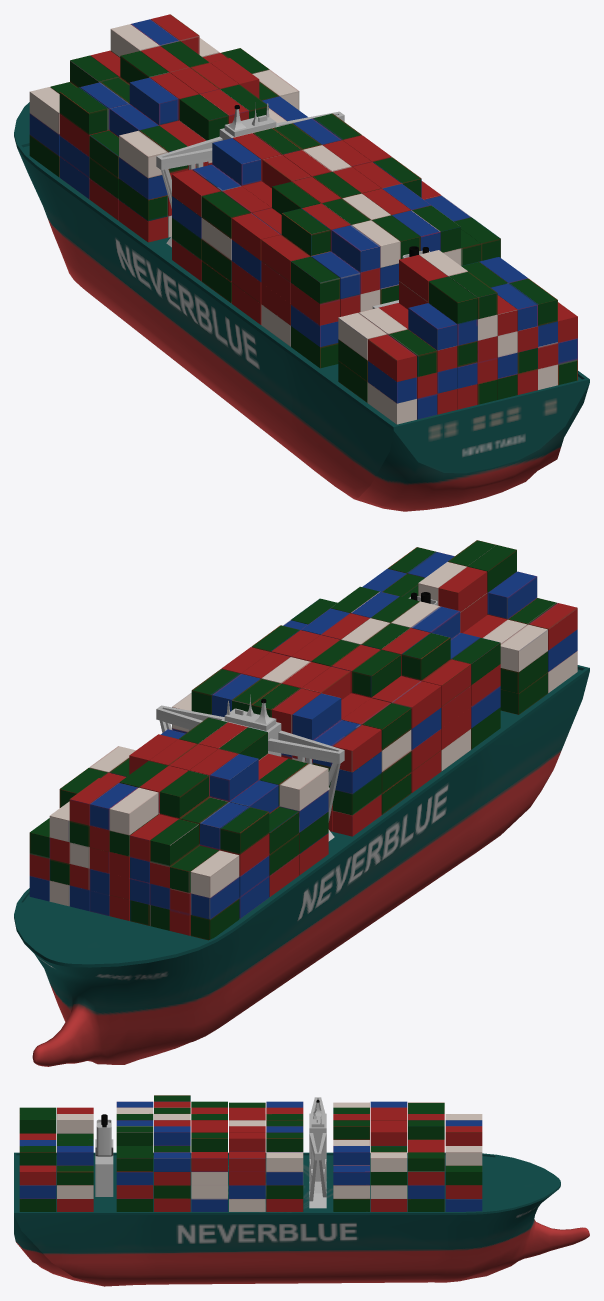
The model's file is target_ship.fbx.
3 views of the same model, one above another, from view 1: azimuth 30°, elevation 25°; view 2: azimuth 150°, elevation 25°; view 3: azimuth 270°, elevation 25° (orthographic). The views are drawn at different scales.
Parts seen in each view (by area): view 1: Target; view 2: Target; view 3: Target.
Boxes of the visible parts, x1,y1,x2,y2 form: Target: [14, 14, 589, 511]; Target: [14, 540, 589, 1066]; Target: [14, 1095, 589, 1286].
Bounding box in the file's own units: 200 × 275 × 806.
Materials: 2 (2 with a texture image).
